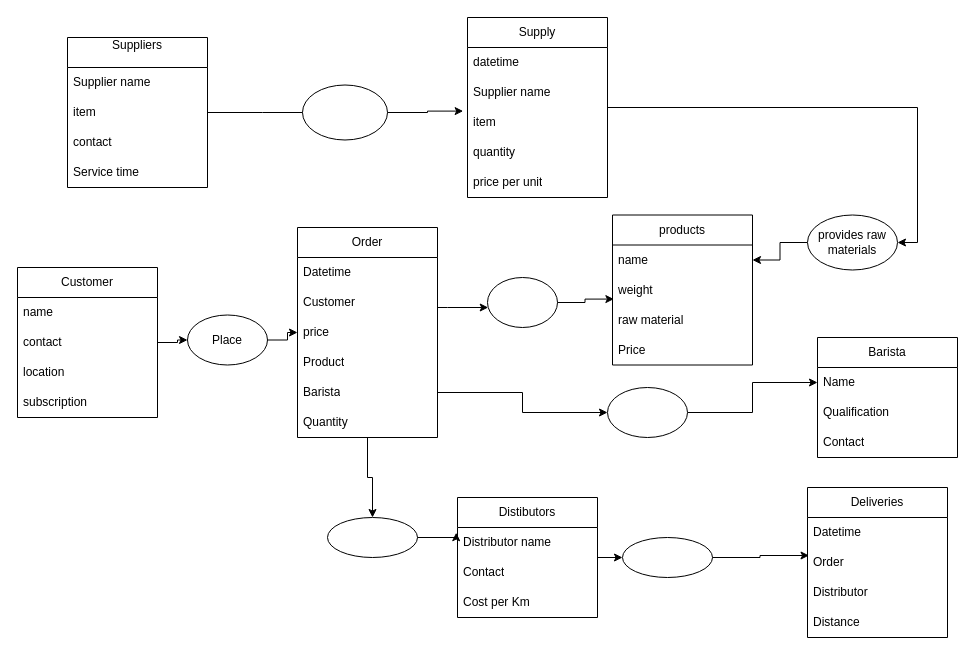
This 975x655 diagram has some shape labels left out. The centre of each missing label's shape, as x and y in pixels:
"Contains" goes at pixel 522 302.
"dispatched through" goes at pixel 372 537.
"fulfil" goes at pixel 667 557.
"is prepared by" goes at pixel 647 412.
"vends" goes at pixel 345 112.
